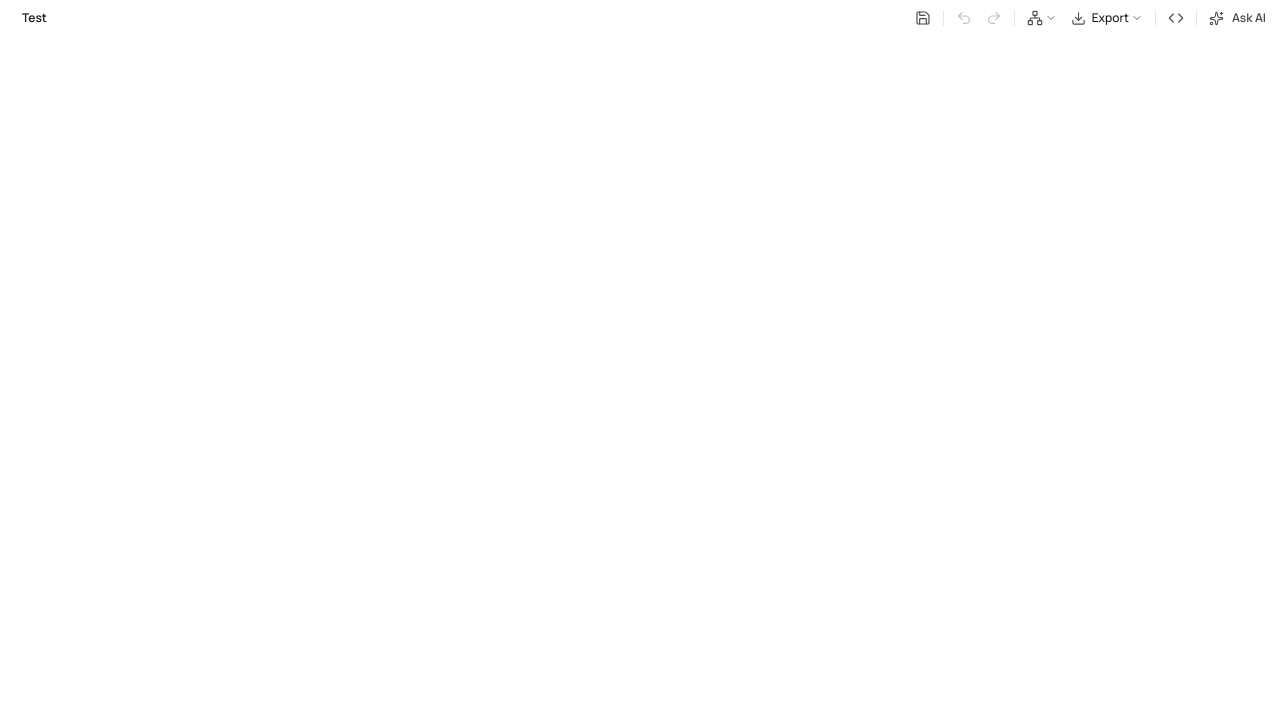
it: Save — only for external files (#219 D5, T19) › external files get Save before Undo — clicking writes to that file
This screenshot has width=1280, height=720.
What coordinates should you click on to do the following:
click the 1st button named "Save"
I would click on:
 (923, 18)
Its box is [909,4,937,32].
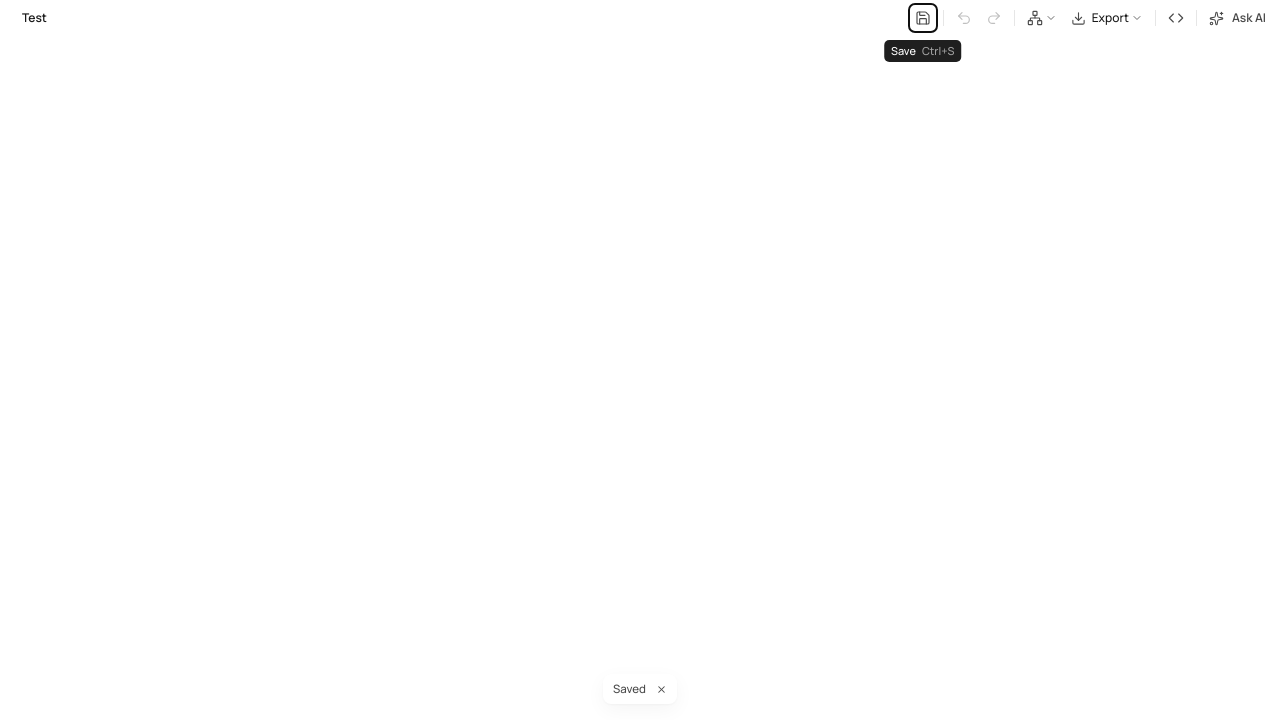
Expected: the text "Saved" is shown, [613,681,646,697]
